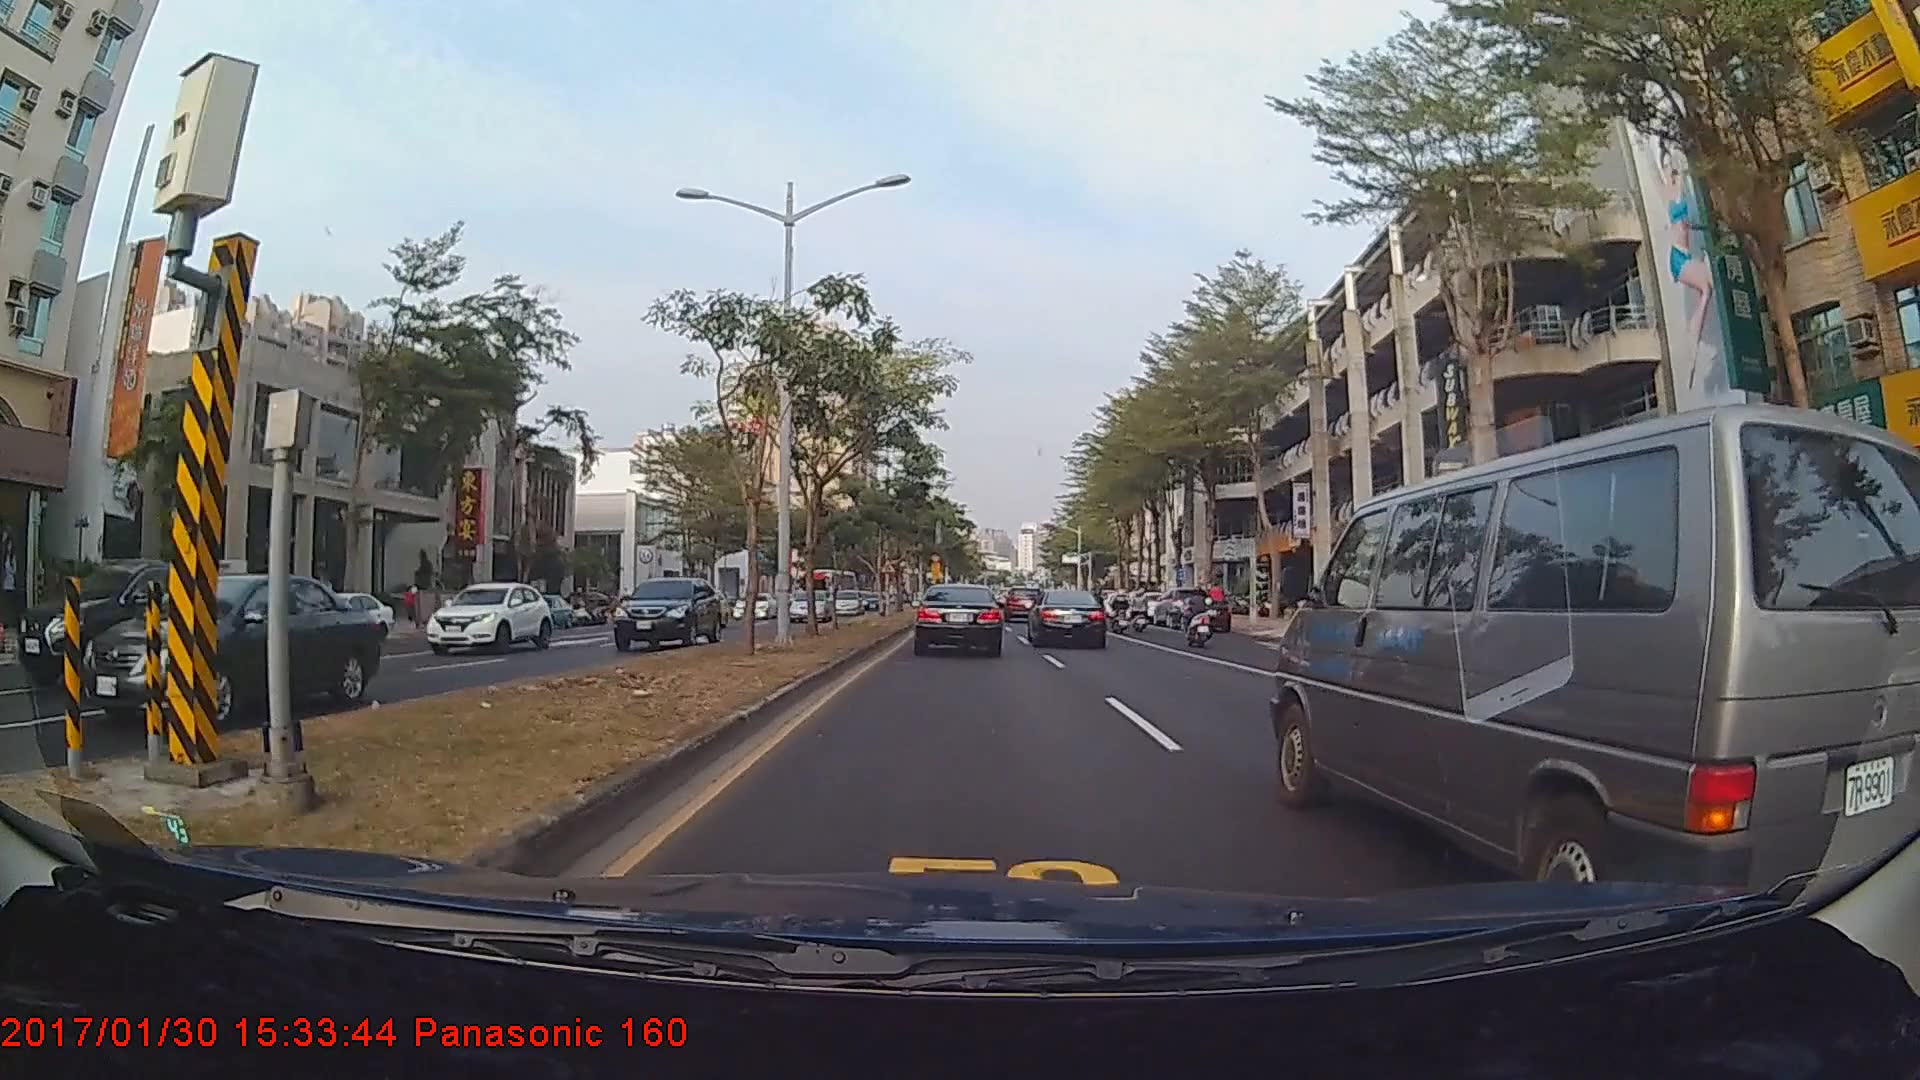rider: (1179, 582, 1217, 651), (1128, 588, 1158, 638)
vehicle: (1272, 409, 1896, 904), (79, 571, 382, 735), (15, 556, 229, 690), (423, 579, 551, 655), (610, 575, 720, 653), (914, 581, 1004, 656), (1029, 588, 1108, 648), (1163, 596, 1230, 635), (789, 590, 834, 626), (731, 591, 778, 619), (1004, 583, 1042, 617), (828, 587, 866, 617)
